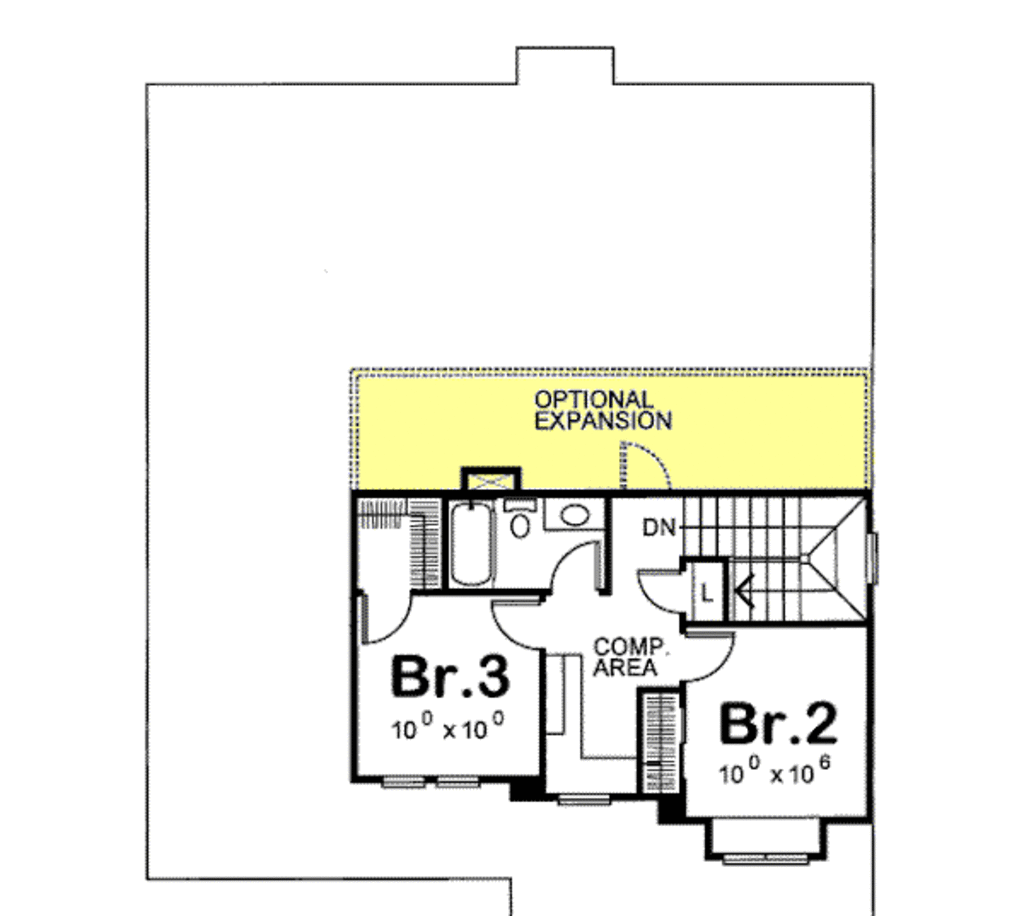door: (628, 568, 736, 638), (663, 624, 742, 698), (530, 544, 620, 599), (487, 596, 551, 657), (359, 589, 406, 647)
large_sink: (490, 496, 542, 553)
small_sink: (537, 496, 602, 531)
stairs: (668, 499, 874, 627)
tub: (440, 491, 505, 602)
window: (363, 767, 484, 798), (709, 838, 816, 872), (840, 519, 885, 596), (544, 788, 620, 807)
